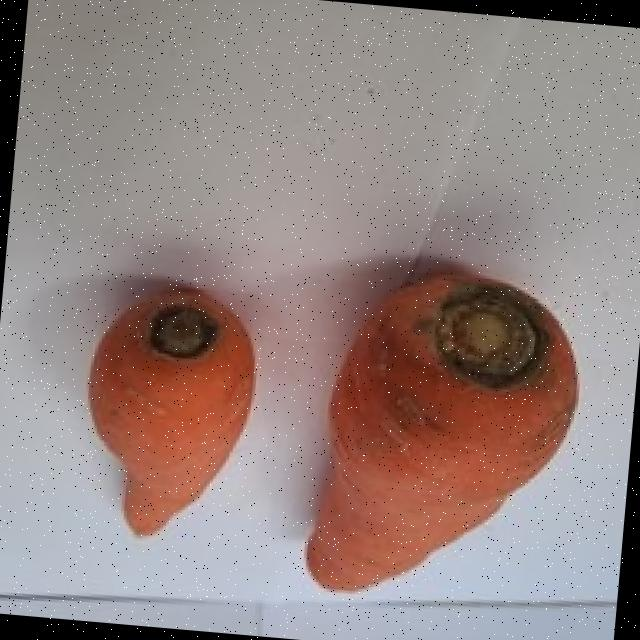carrot: (310, 279, 579, 593), (92, 295, 256, 538)
